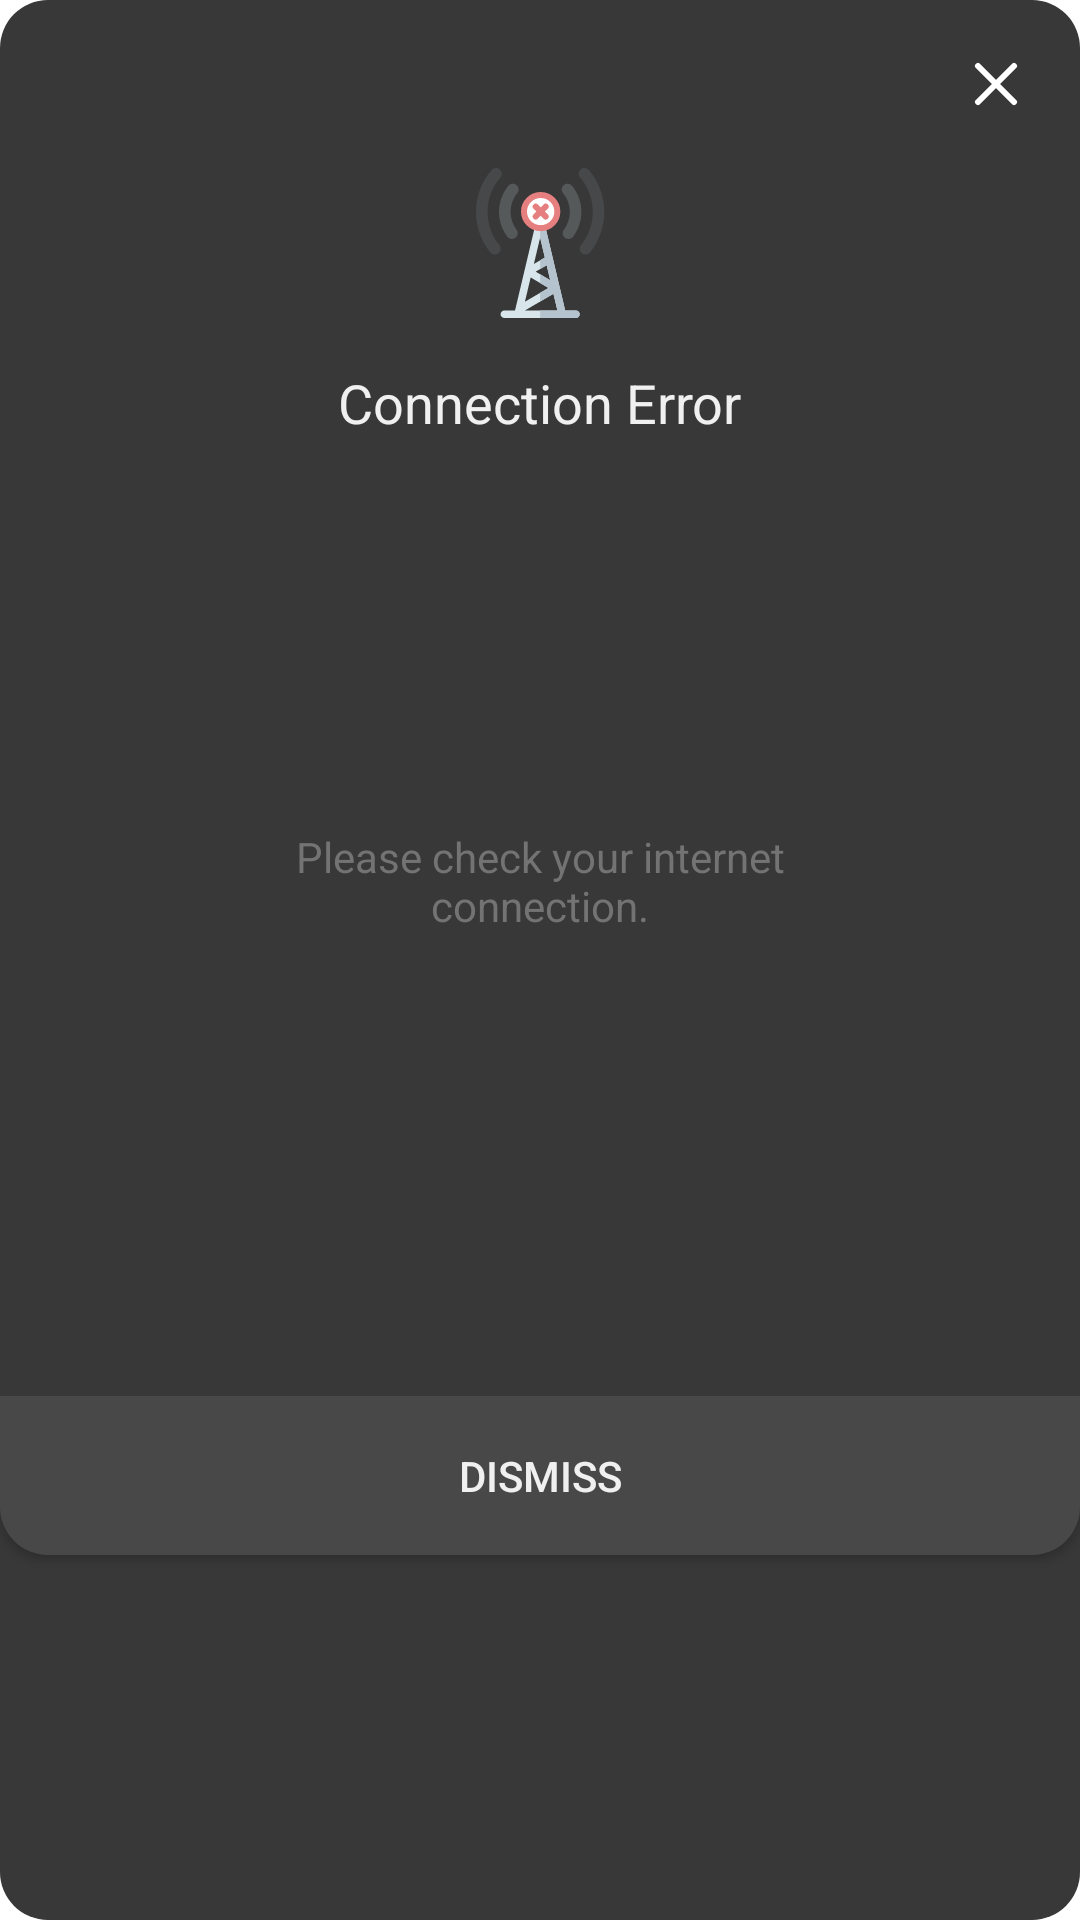

Screen size 1080px x 1920px. Icon name, then its center in pixels as (x=x, y=y):
close: (x=996, y=84)
network conn: (x=540, y=251)
